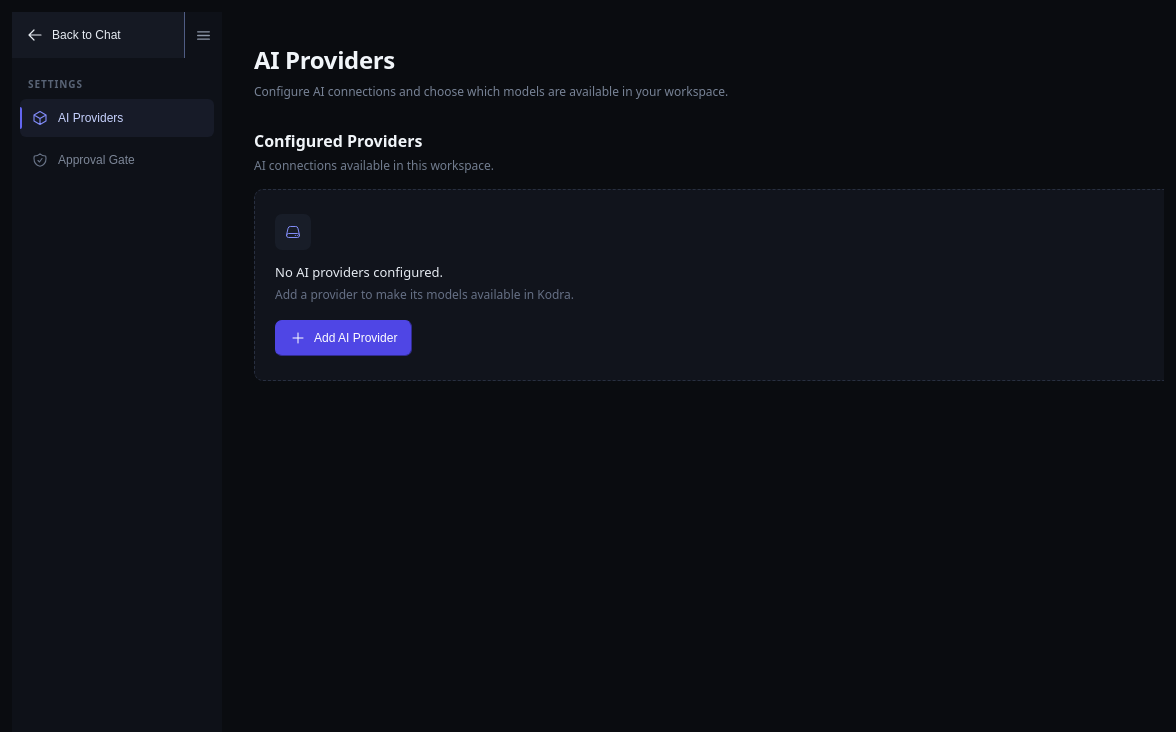
Test case: SettingsPage › renders Approval Gate nav item and switches tab on click
The image size is (1176, 732).
Click the button "Approval Gate" at (117, 160), box [20,141,214,179]
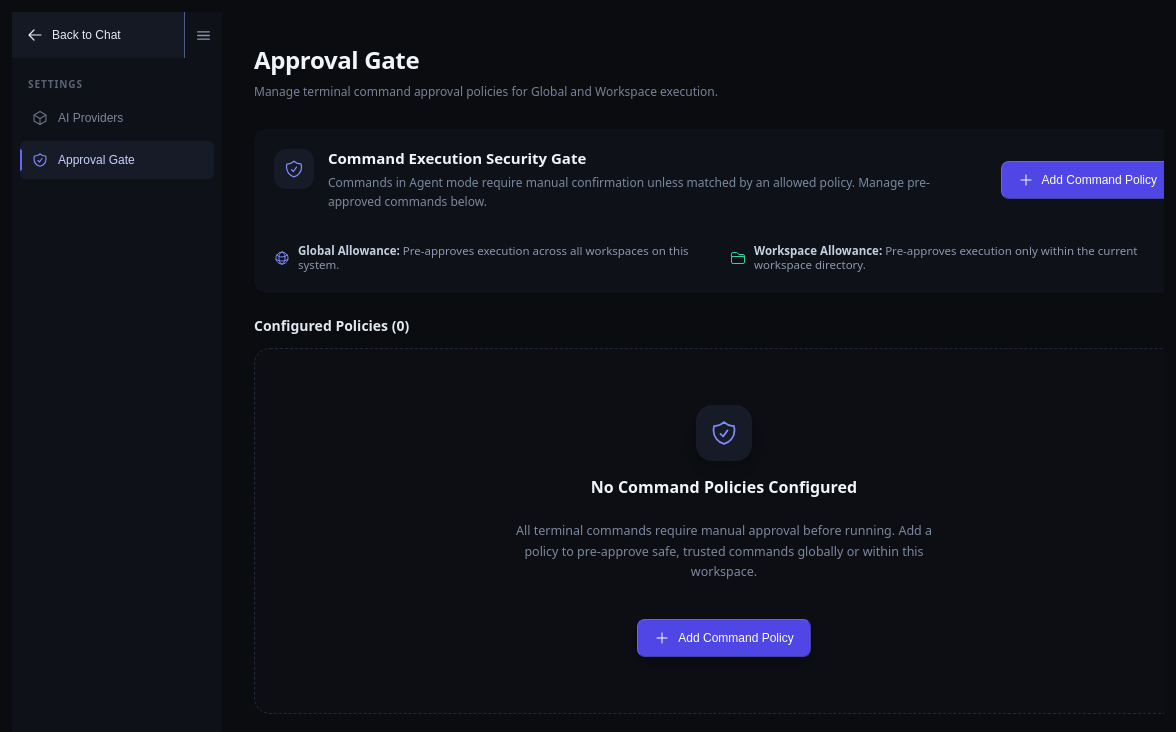
Result: the heading "Approval Gate" is shown at [254,44,419,76]
Result: the text "Manage terminal command approval policies" is shown at [254,83,718,100]
